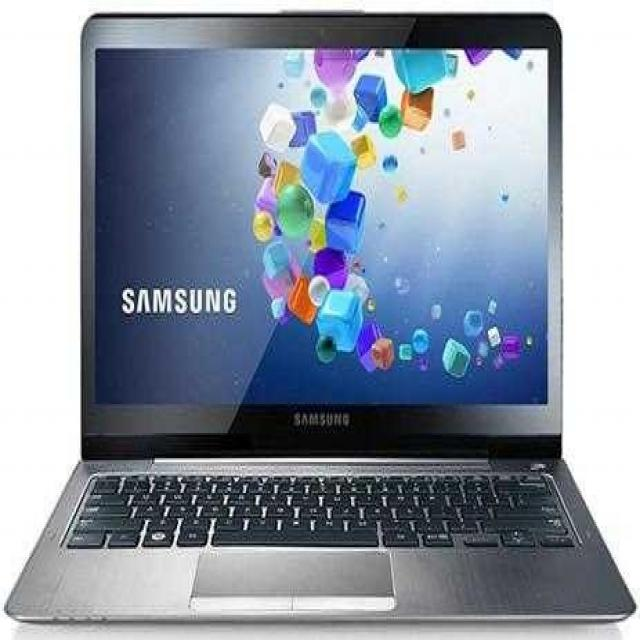laptop: (70, 16, 562, 618)
